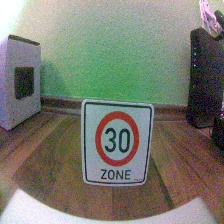dreisiger_zone: (80, 99, 153, 187)
